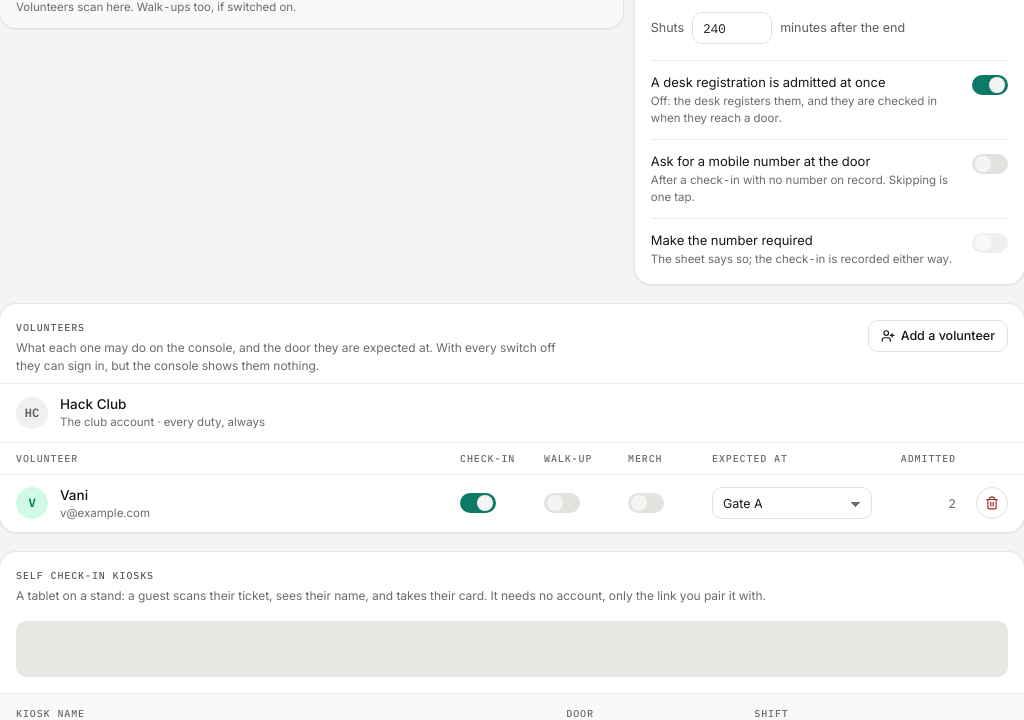
Test: adding a volunteer › adds them by name, email and phone, says so, closes, and reads the team again
This screenshot has width=1024, height=720.
(page scrolled)
Click the button "Add a volunteer".
click(938, 336)  # box left=868, top=320, right=1008, bottom=352
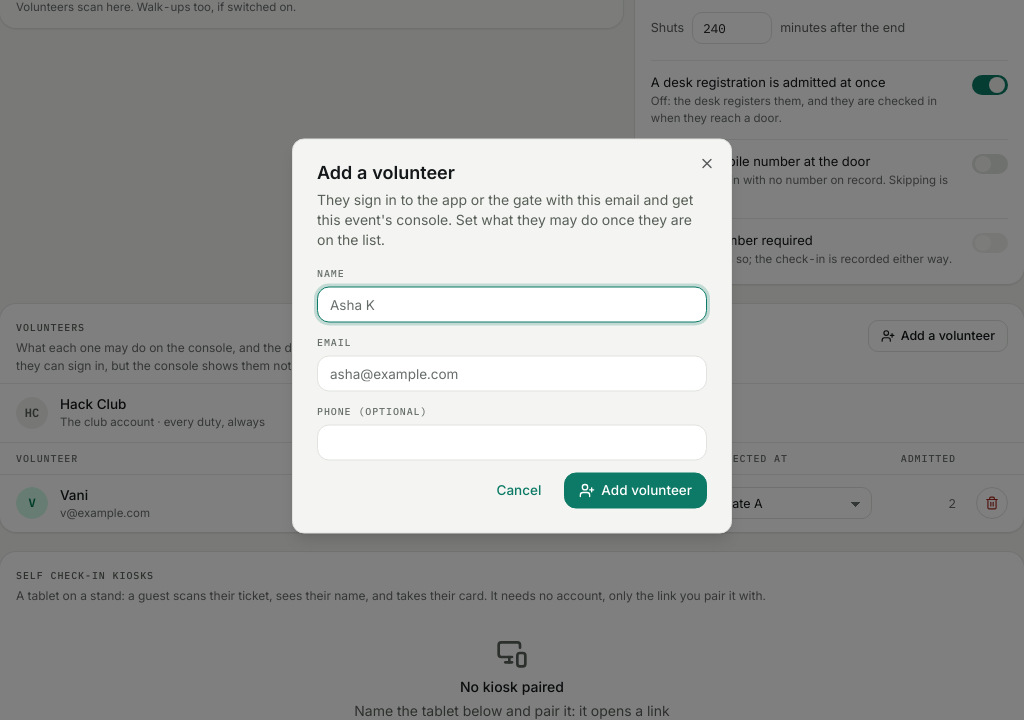
Expected: the heading "Add a volunteer" is shown, left=317, top=162, right=455, bottom=182
Type " Asha K " into the field labelled "Name".
click(512, 304); type(" Asha K ")  # box left=317, top=286, right=707, bottom=322
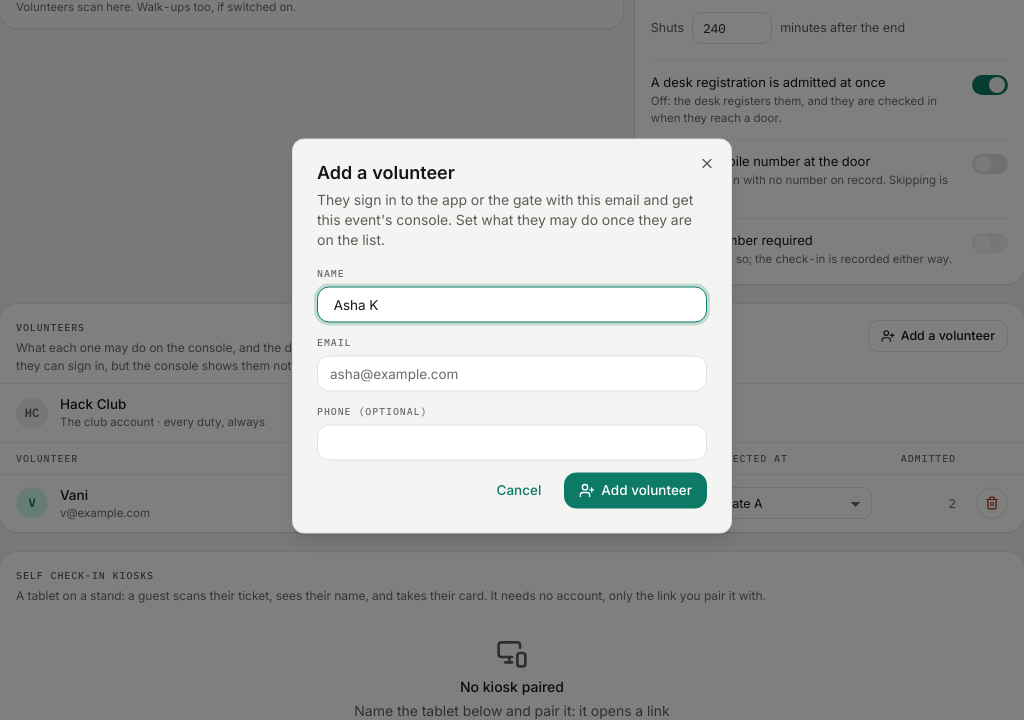
Type " asha@example.com " into the field labelled "Email".
click(512, 374); type(" asha@example.com ")  # box left=317, top=356, right=707, bottom=392
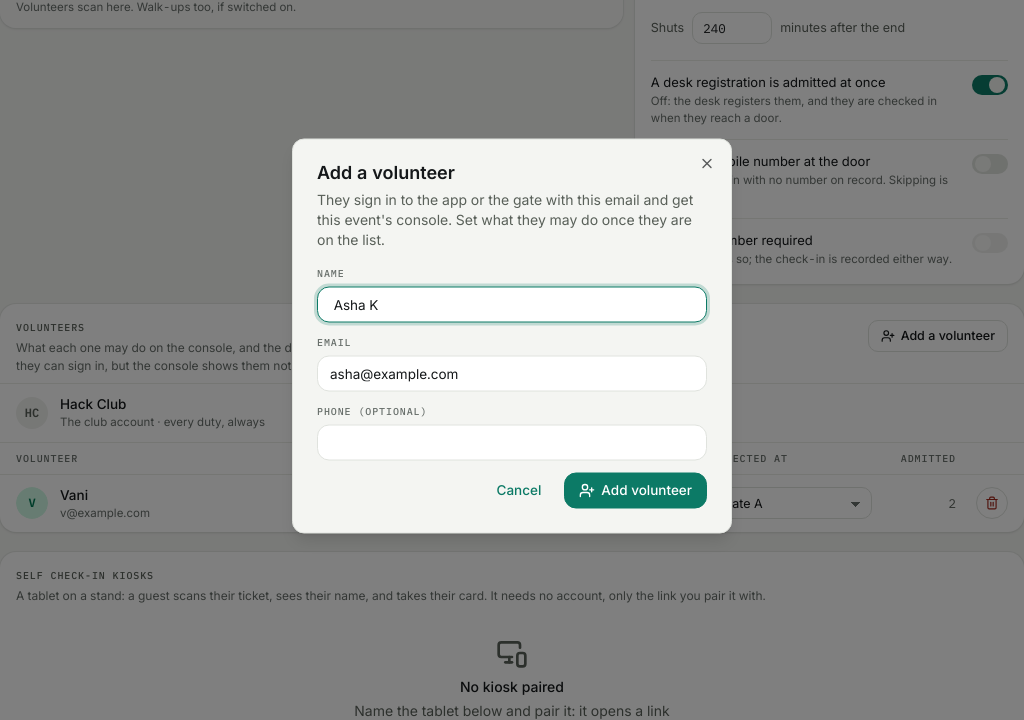
Type "+91 98470 12345" into the field labelled "Phone (optional)".
click(512, 442); type("+91 98470 12345")  # box left=317, top=424, right=707, bottom=460
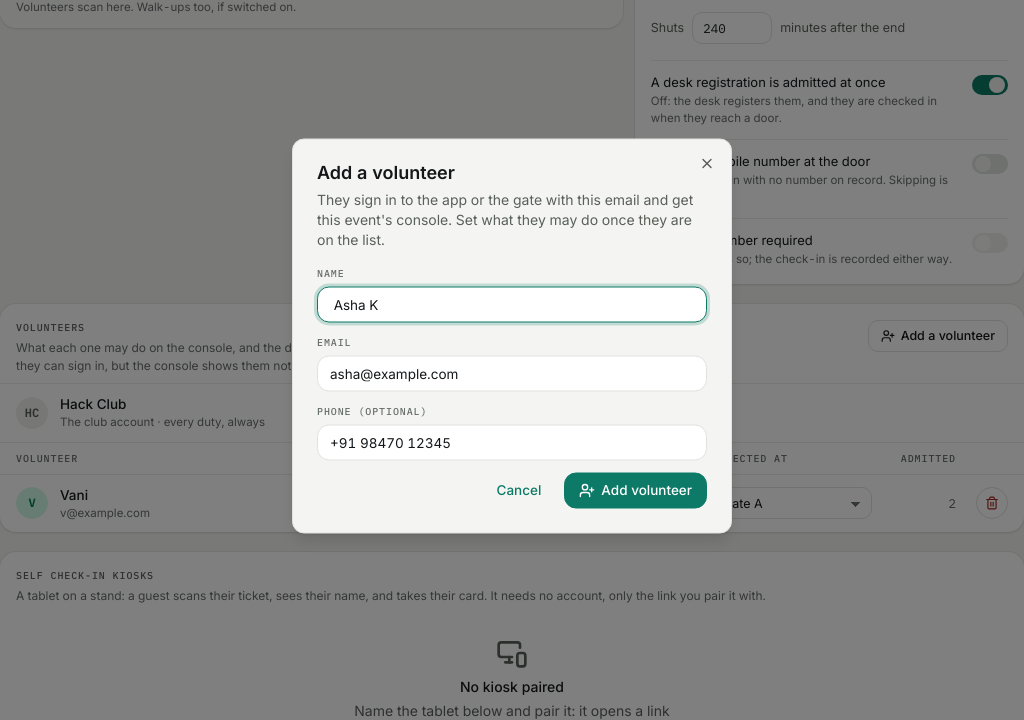
Click the button "Add volunteer".
click(636, 490)  # box left=564, top=472, right=707, bottom=508
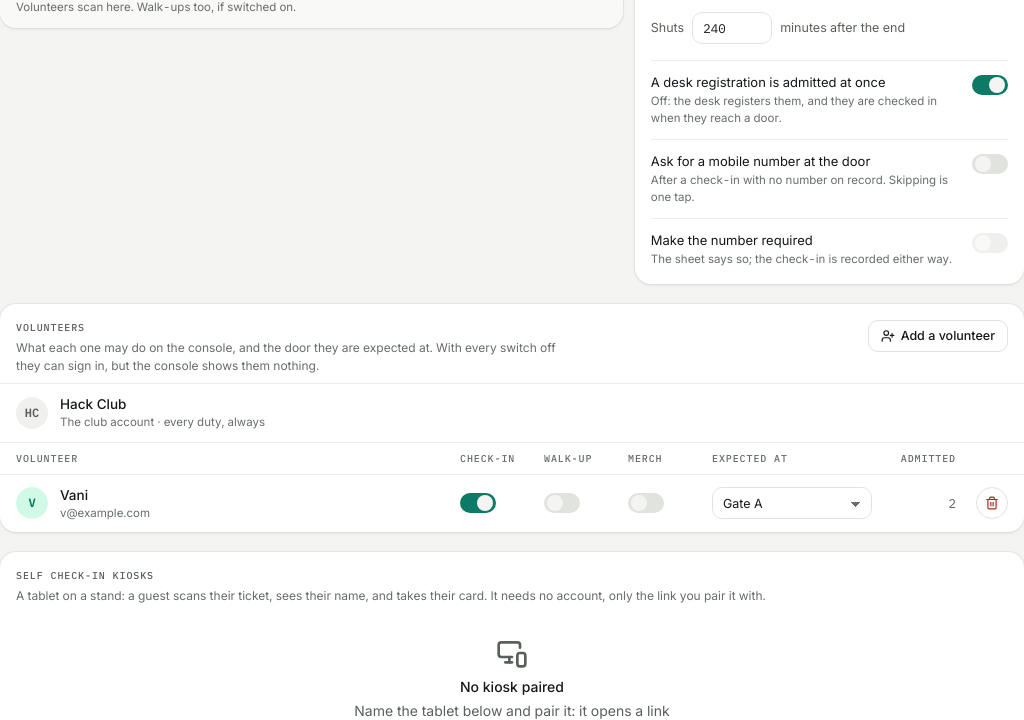
Expected: the dialog is gone
